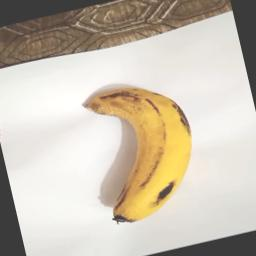Banana Unripe: (75, 65, 211, 234)
